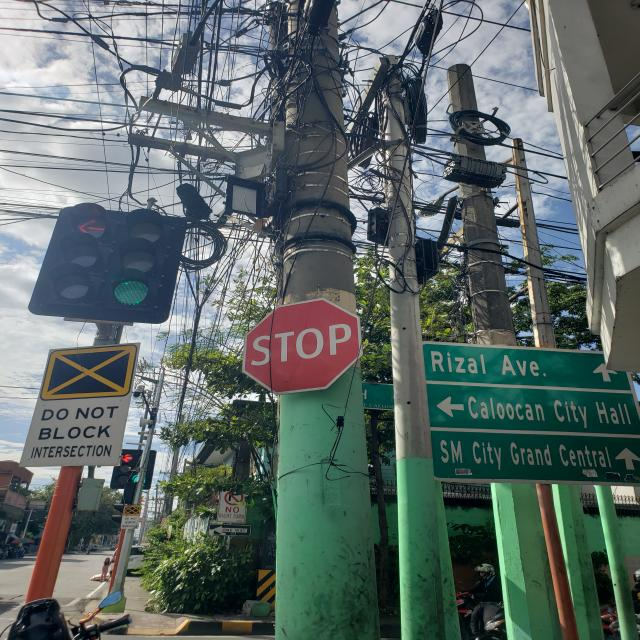stop-sign: (242, 297, 364, 395)
